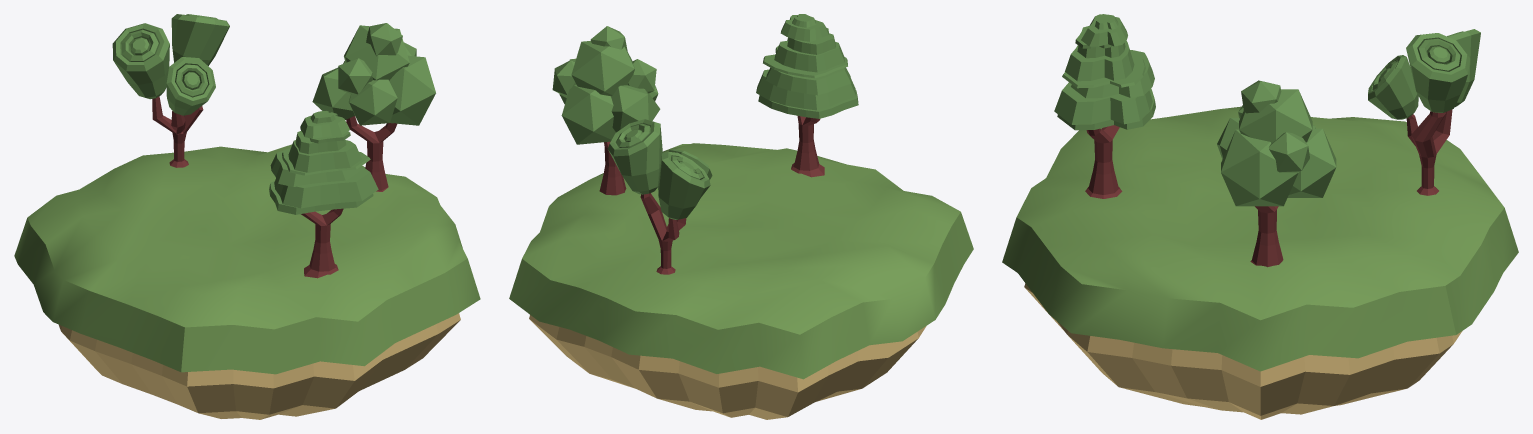
Rendered from low_poly_triple_trees.glb.
3 views of the same model, side by side, from view 1: azimuth 30°, elevation 25°; view 2: azimuth 150°, elevation 25°; view 3: azimuth 270°, elevation 25° (orthographic). The views are drawn at different scales.
Visible parts, largest first — view 1: Plane, Plane001, Icosphere003, Plane007, Cylinder001; view 2: Plane, Plane001, Icosphere003, Plane007, Cylinder001; view 3: Plane, Plane001, Icosphere003, Plane007, Cylinder001.
Boxes of the visible parts, x1,y1,x2,y2 form: Plane: (14, 144, 480, 374); Plane001: (59, 313, 460, 419); Icosphere003: (312, 23, 435, 191); Plane007: (269, 111, 378, 278); Cylinder001: (112, 14, 229, 167); Plane: (509, 143, 973, 379); Plane001: (529, 315, 926, 419); Icosphere003: (552, 26, 660, 195); Plane007: (756, 14, 858, 177); Cylinder001: (607, 119, 712, 274); Plane: (1002, 106, 1518, 371); Plane001: (1024, 283, 1462, 419); Icosphere003: (1217, 80, 1336, 267); Plane007: (1054, 14, 1155, 198); Cylinder001: (1368, 29, 1480, 195).
Bounding box in the file's own units: 37.38 × 31.27 × 37.38.
